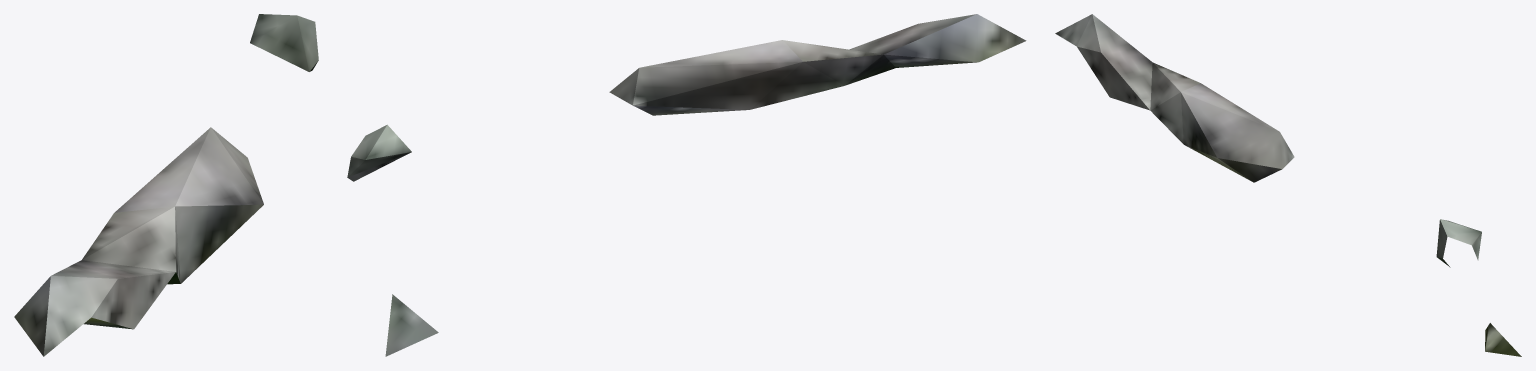
3 renders of one model, left to right at view 1: azimuth 30°, elevation 25°; view 2: azimuth 150°, elevation 25°; view 3: azimuth 270°, elevation 25°, orthographic. The views are drawn at different scales.
Size of the model in its own units: 0.1743 by 0.093 by 0.1938.
1 material, 1 textured.
